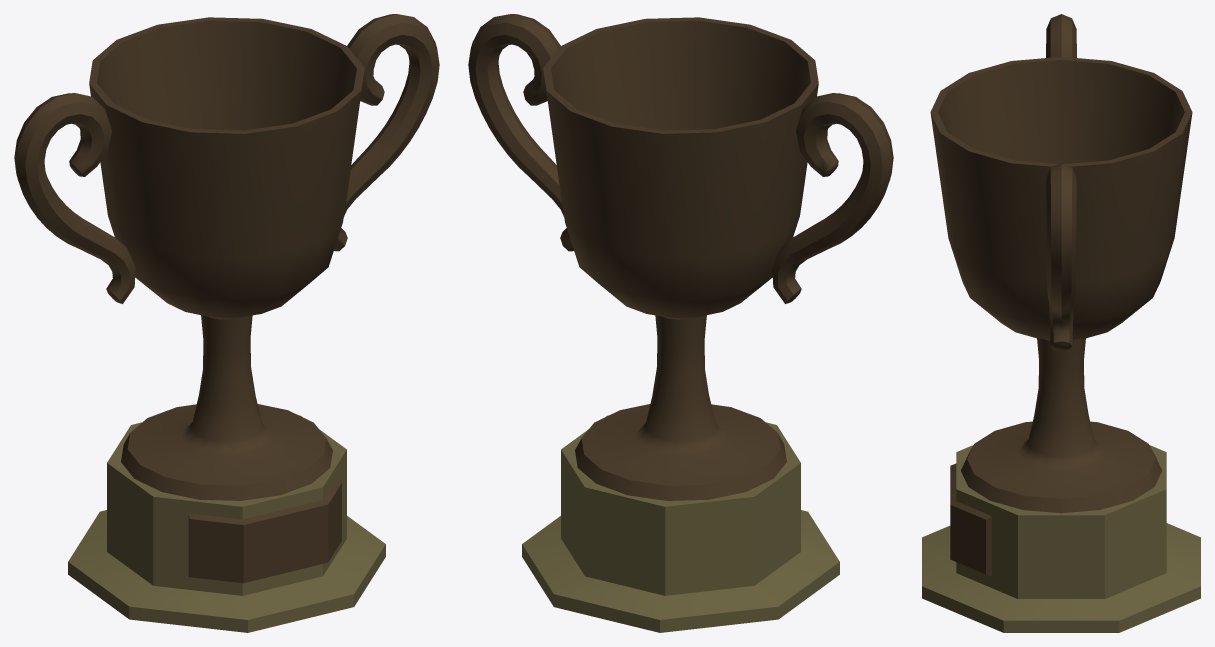
The model's file is SM_Trophy_Bronze.fbx.
3 renders of one model, left to right at view 1: azimuth 30°, elevation 25°; view 2: azimuth 150°, elevation 25°; view 3: azimuth 270°, elevation 25°, orthographic. The views are drawn at different scales.
Parts seen in each view (by area): view 1: SM_Trophy_Bronze; view 2: SM_Trophy_Bronze; view 3: SM_Trophy_Bronze.
Boxes of the visible parts, x1=… form: SM_Trophy_Bronze: x1=14, y1=14, x2=439, y2=632; SM_Trophy_Bronze: x1=468, y1=14, x2=893, y2=632; SM_Trophy_Bronze: x1=922, y1=14, x2=1200, y2=632.
Size of the model in its own units: 55.93 by 64.6 by 33.97.
